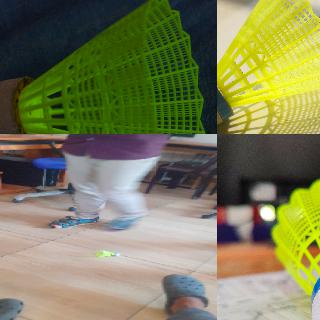shuttlecock: (0, 0, 206, 133), (217, 0, 319, 127), (271, 177, 319, 319), (96, 250, 120, 256)
